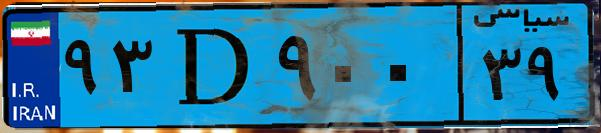0: (385, 28, 445, 110), (330, 28, 385, 110)
3: (475, 38, 525, 113), (110, 28, 158, 98)
9: (270, 28, 330, 110), (57, 26, 110, 100), (525, 38, 570, 115)
D: (158, 12, 270, 120)
